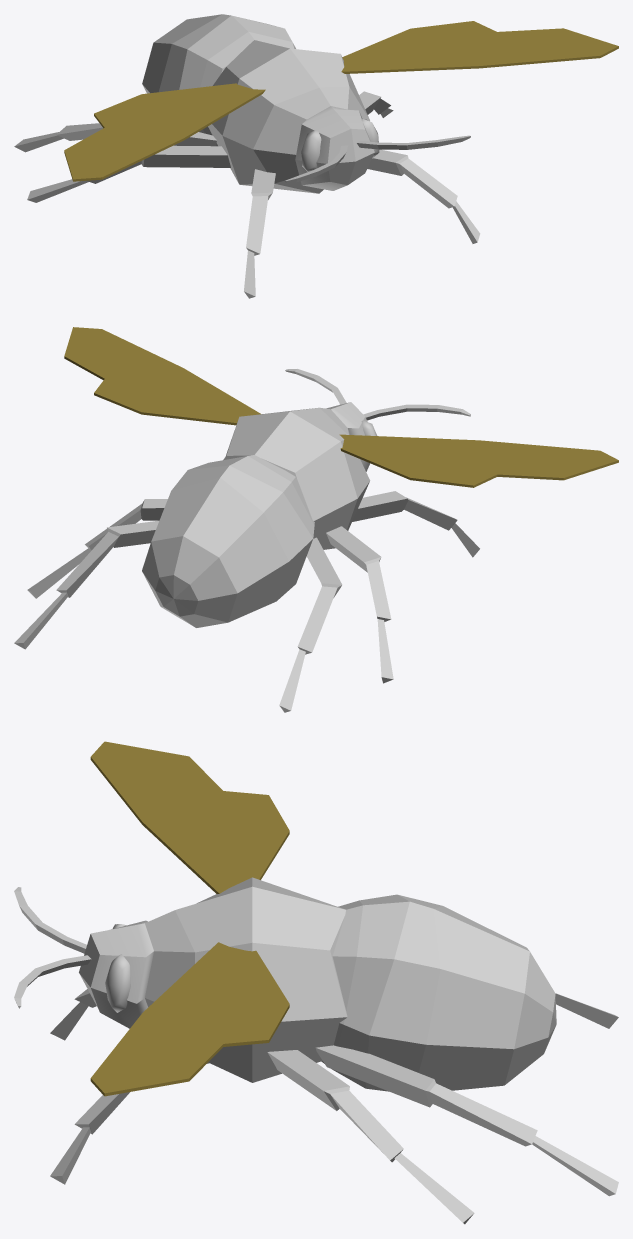
Rendered from Mesh_Bumblebee.obj.
3 views of the same model, one above another, from view 1: azimuth 30°, elevation 25°; view 2: azimuth 150°, elevation 25°; view 3: azimuth 270°, elevation 25° (orthographic). The views are drawn at different scales.
Visible parts, largest first — view 1: Geo_Bumblebee; view 2: Geo_Bumblebee; view 3: Geo_Bumblebee.
Part boxes in pixels (x1,y1,x2,y2): Geo_Bumblebee: [14, 14, 618, 298]; Geo_Bumblebee: [14, 327, 618, 712]; Geo_Bumblebee: [14, 741, 618, 1224].
Bounding box in the file's own units: 121 × 36.34 × 88.18.
